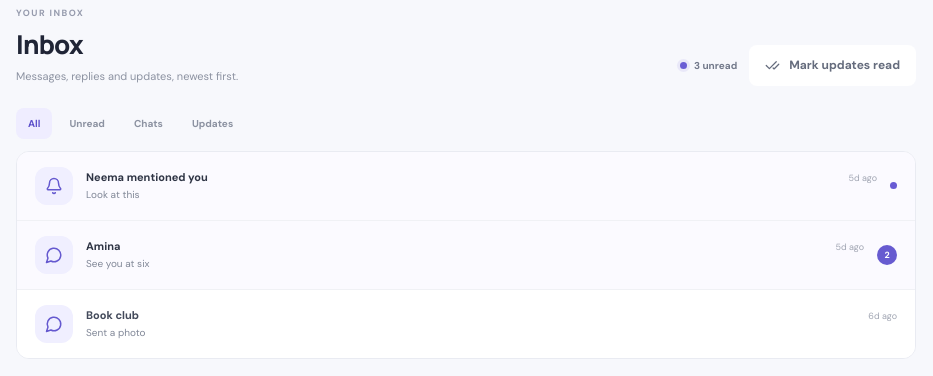
Test case: InboxPage › filters to unread items and to chats only
The image size is (933, 376).
Expected: the text "Neema mentioned you" is shown, [86,170,208,184]
Click the tab "Unread" at (87, 123), box [57,108,117,139]
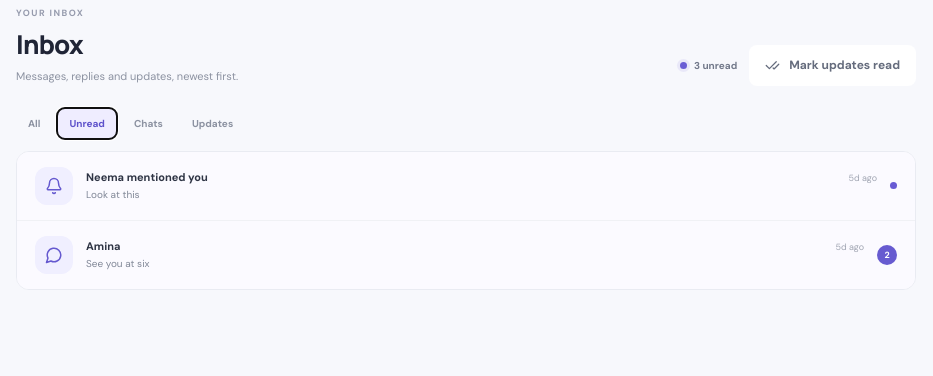
Expected: the text "Amina" is shown, [86,239,120,253]
Expected: the button "Book club" is gone
Click the tab "Chats" at (148, 123), box [122,108,175,139]
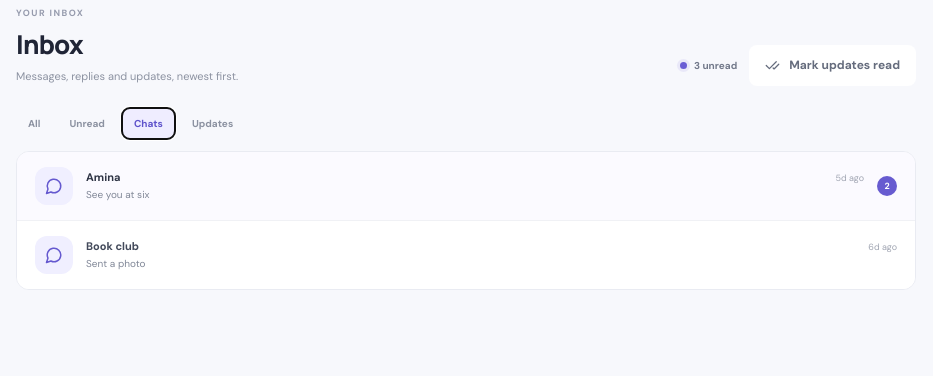
Expected: the button "Neema mentioned you" is gone
Expected: the text "Book club" is shown, [86,239,139,253]
